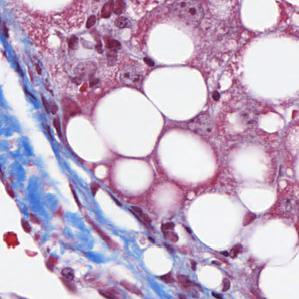inflammation: (64, 15, 125, 66)
